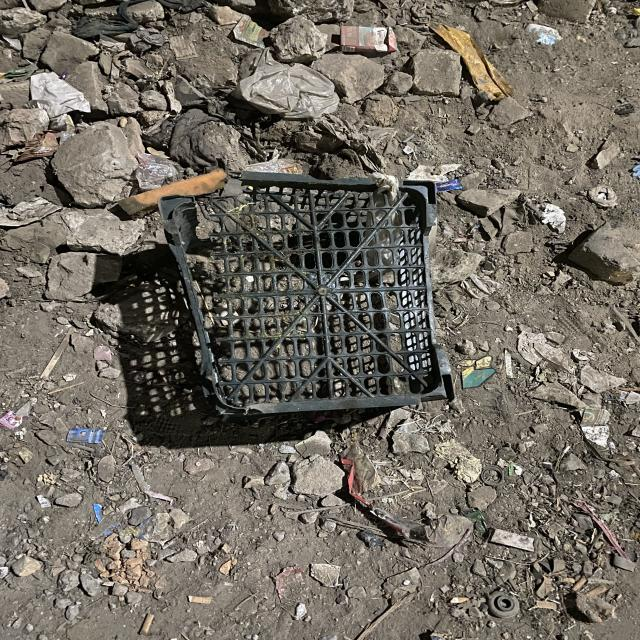electronic: (428, 21, 514, 101)
general: (156, 167, 454, 422)
